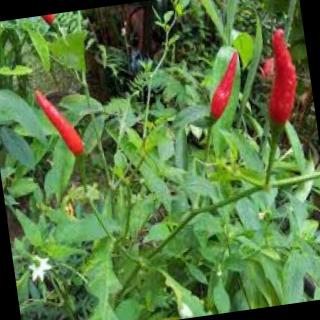Cabai Merah: (34, 91, 85, 157), (268, 29, 298, 127), (209, 48, 239, 123)
